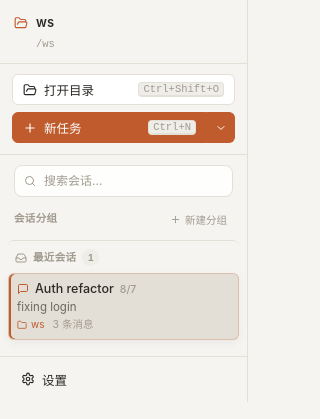
Test: Sidebar › shows a no-match state for an empty search result
The image size is (320, 419).
Type "zzz" into the field labelled "搜索会话".
click(132, 181); type("zzz")  # box [42,171,223,191]
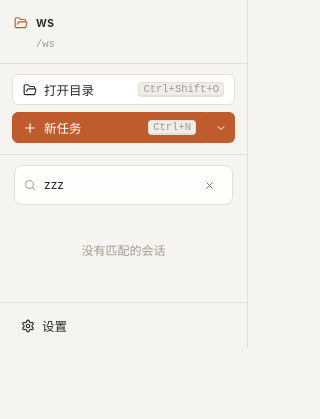
Check: the text "没有匹配的会话" is shown, box [82,242,166,260]
Check: the button "Auth refactor" is gone
